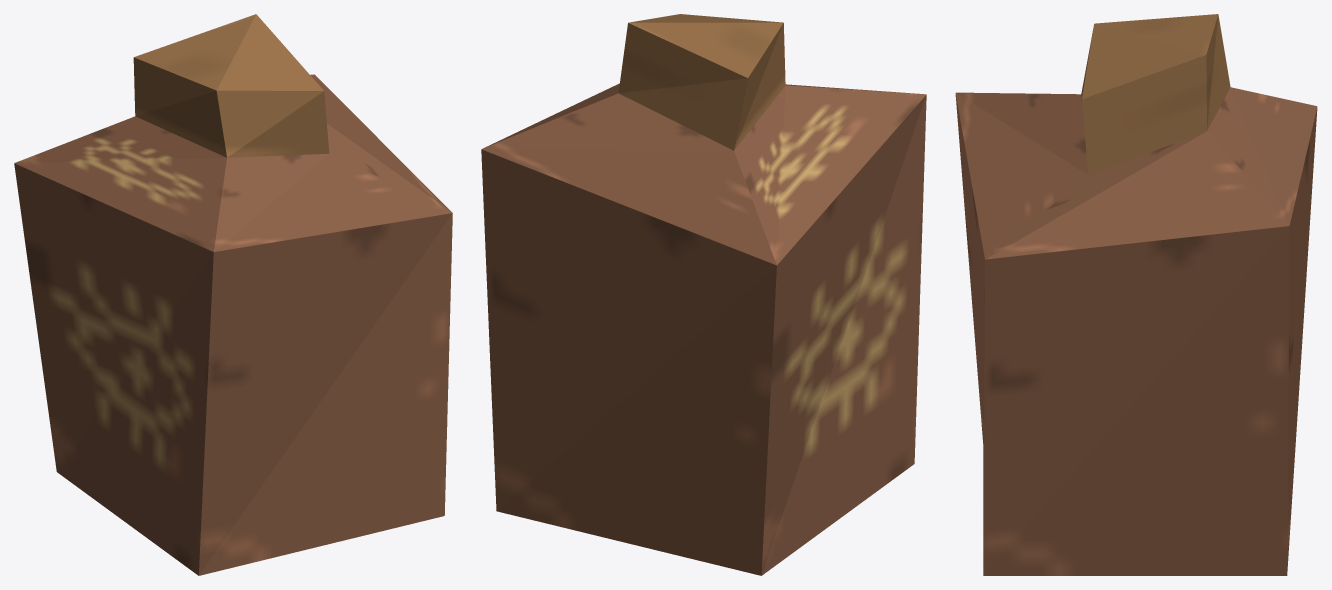
The model's file is SM_ClayJar.fbx.
3 renders of one model, left to right at view 1: azimuth 30°, elevation 25°; view 2: azimuth 150°, elevation 25°; view 3: azimuth 270°, elevation 25°, orthographic. The views are drawn at different scales.
Parts seen in each view (by area): view 1: ClayJar_Visual; view 2: ClayJar_Visual; view 3: ClayJar_Visual.
Boxes of the visible parts, x1,y1,x2,y2 form: ClayJar_Visual: (14,14,452,575); ClayJar_Visual: (481,14,926,575); ClayJar_Visual: (955,14,1317,575).
Size of the model in its own units: 0.1157 by 0.1716 by 0.118.
